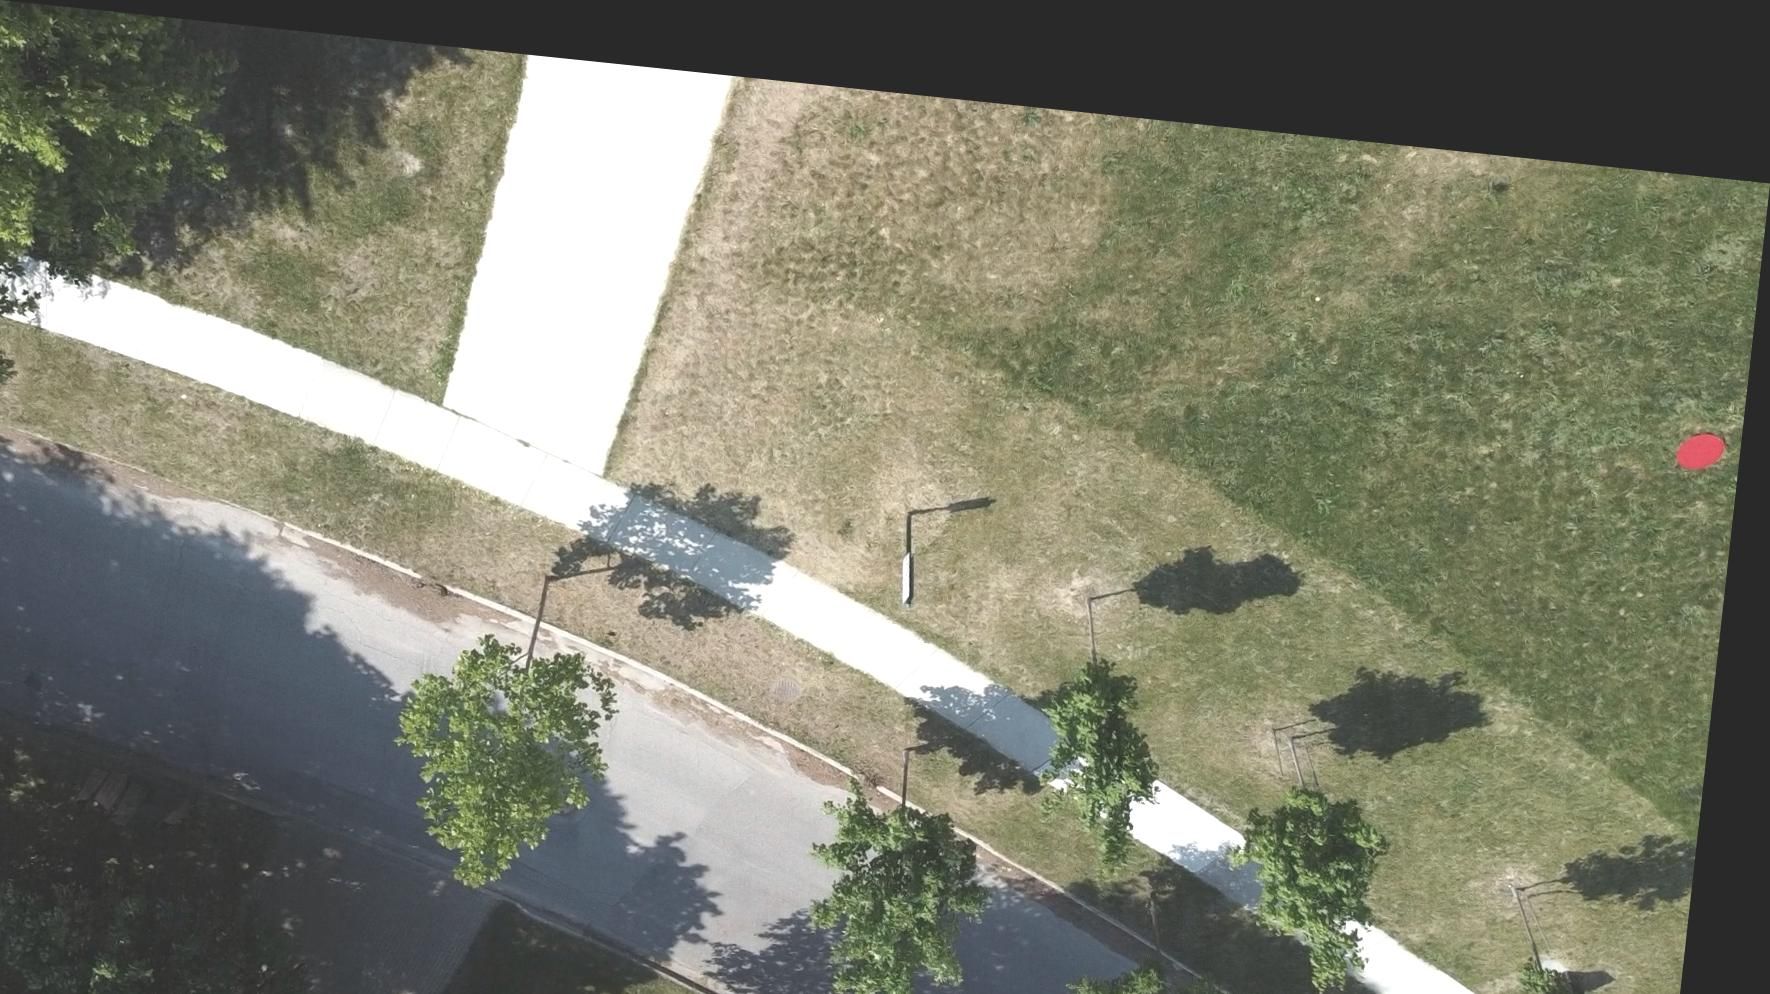Red: (1679, 389, 1734, 436)
